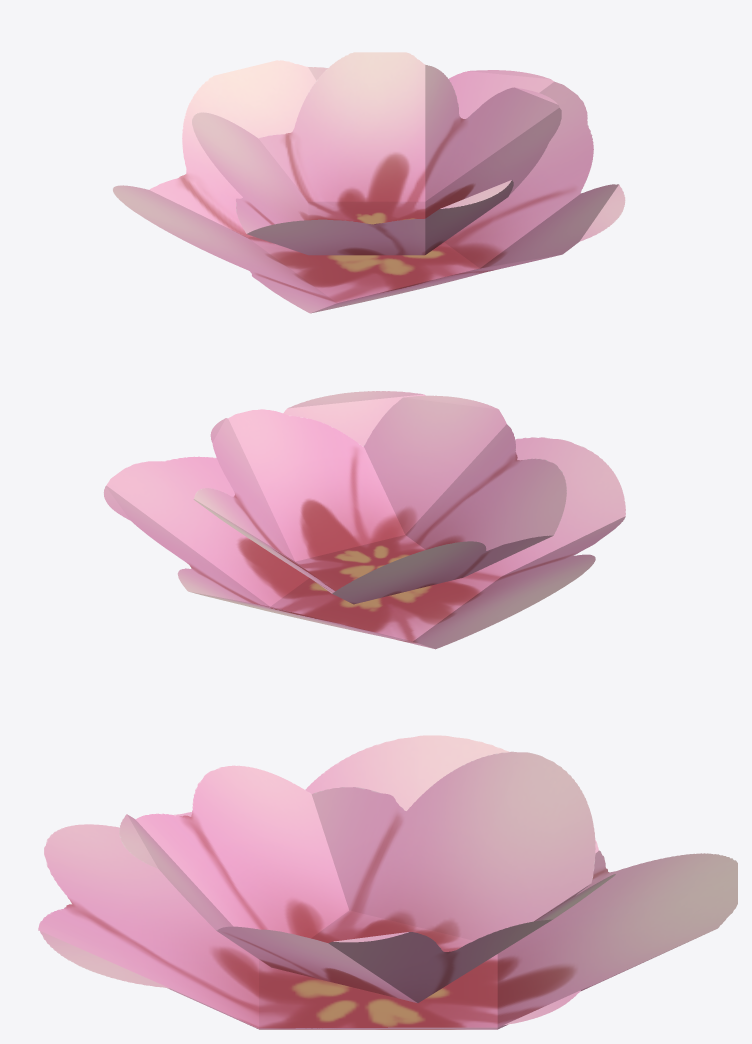
File: pinkGroundFlower_1.fbx
The picture shows the model from 3 angles, top to bottom: view 1: azimuth 30°, elevation 25°; view 2: azimuth 150°, elevation 25°; view 3: azimuth 270°, elevation 25°; orthographic projection. The views are drawn at different scales.
Parts seen in each view (by area): view 1: pinkGroundFlower_1; view 2: pinkGroundFlower_1; view 3: pinkGroundFlower_1.
Part boxes in pixels (x1,y1,x2,y2): pinkGroundFlower_1: [113, 52, 625, 313]; pinkGroundFlower_1: [103, 391, 625, 649]; pinkGroundFlower_1: [38, 735, 737, 1029].
Bounding box in the file's own units: 0.3975 × 0.0986 × 0.4122.
